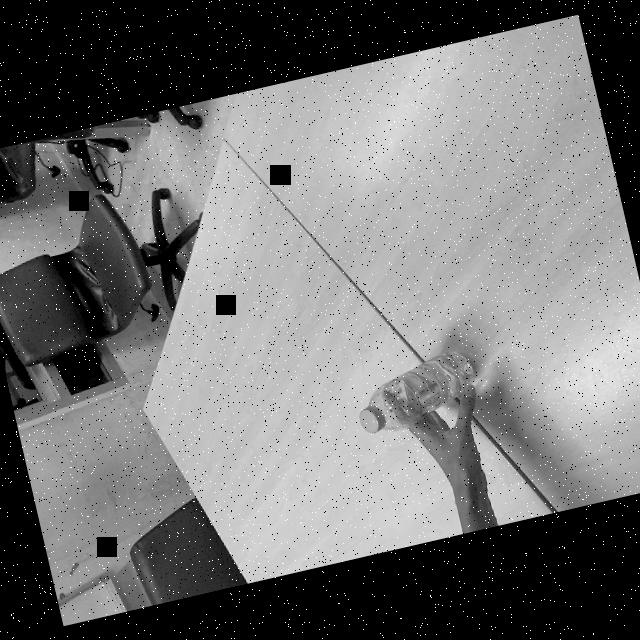plastic_bottle: (344, 345, 485, 438)
plastic_bottle_cap: (354, 400, 386, 436)
